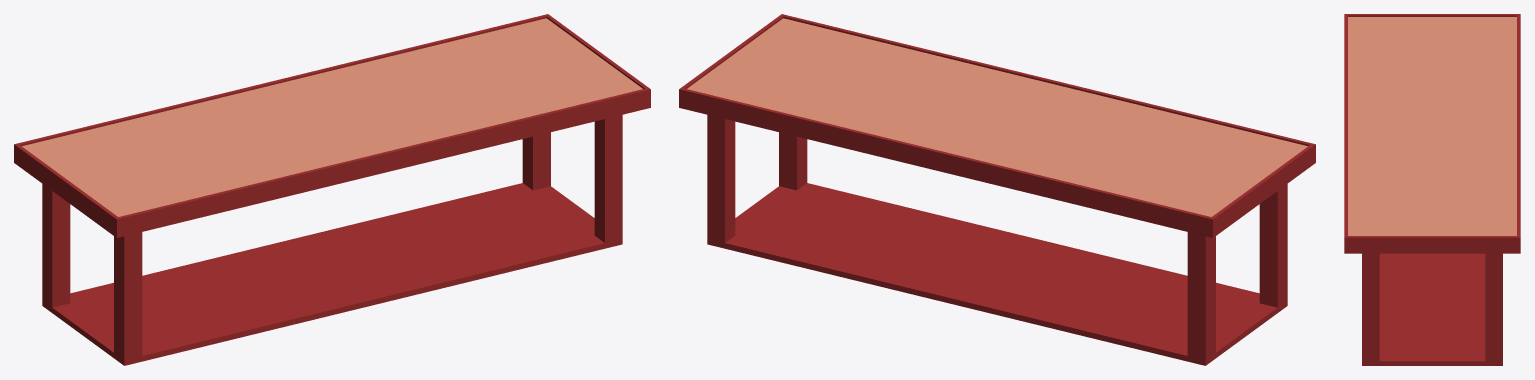
Rendered from BeerPong_Table.fbx.
3 renders of one model, left to right at view 1: azimuth 30°, elevation 25°; view 2: azimuth 150°, elevation 25°; view 3: azimuth 270°, elevation 25°, orthographic. The views are drawn at different scales.
Visible parts, largest first — view 1: Model; view 2: Model; view 3: Model.
Part boxes in pixels (left/top/right/bottom): Model: left=14, top=14, right=650, bottom=365; Model: left=679, top=14, right=1315, bottom=365; Model: left=1344, top=14, right=1520, bottom=365.
Size of the model in its own units: 3 by 0.85 by 1.
